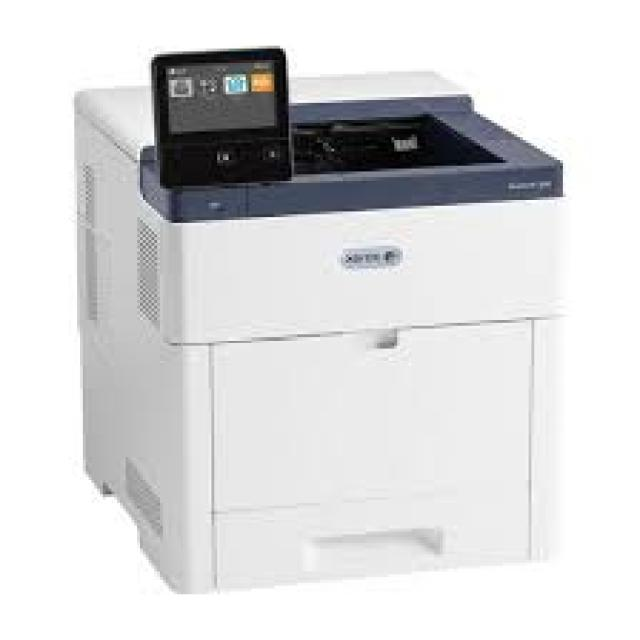printer: (48, 33, 612, 606)
